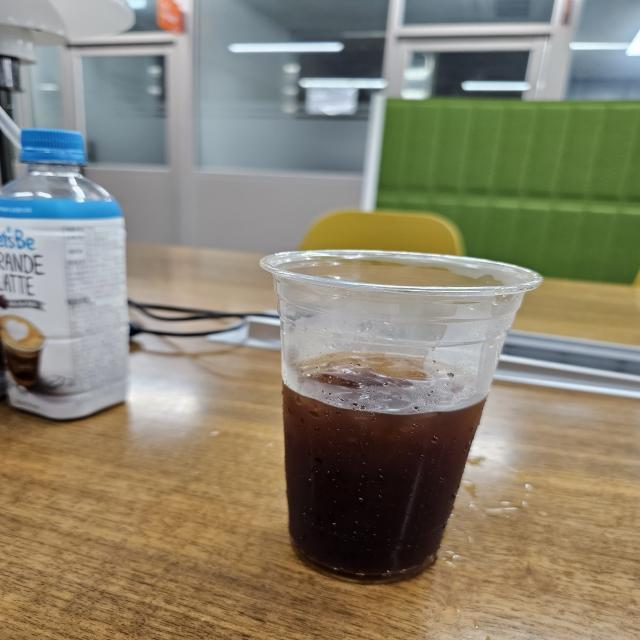cup: (243, 242, 542, 585)
